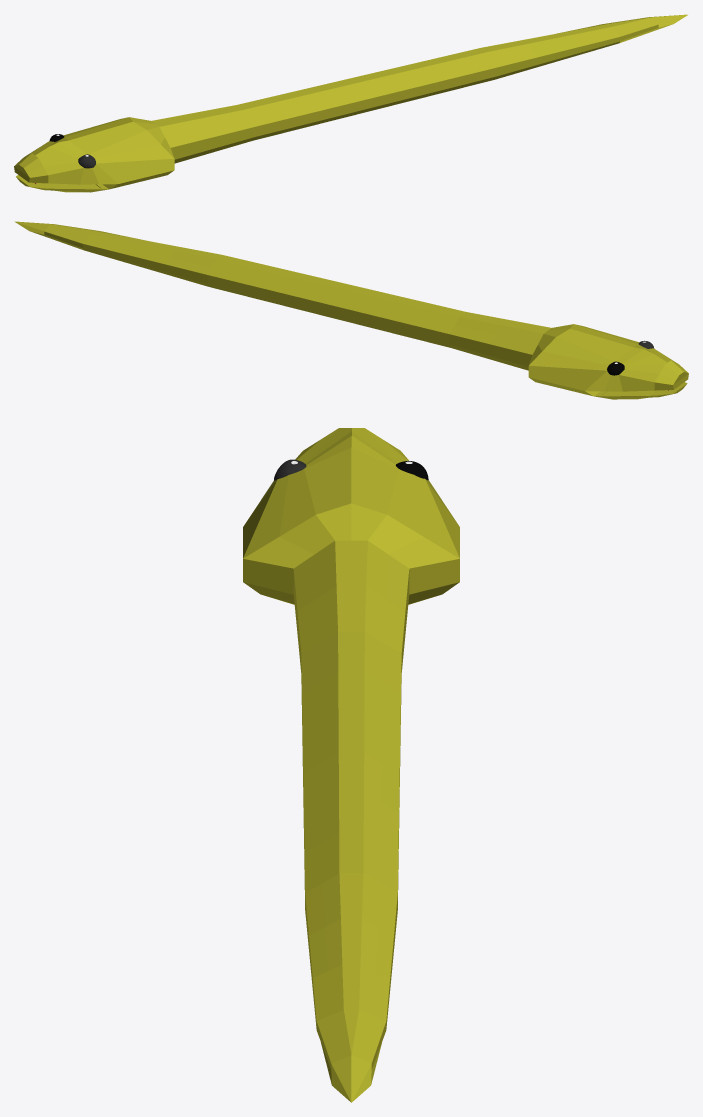
Rendered from serpiente con color.fbx.
3 renders of one model, top to bottom at view 1: azimuth 30°, elevation 25°; view 2: azimuth 150°, elevation 25°; view 3: azimuth 270°, elevation 25°, orthographic. The views are drawn at different scales.
Visible parts, largest first — view 1: Cube; view 2: Cube; view 3: Cube.
Boxes of the visible parts, x1=… form: Cube: x1=14, y1=14, x2=687, y2=192; Cube: x1=14, y1=221, x2=688, y2=399; Cube: x1=243, y1=428, x2=459, y2=1102.
Size of the model in its own units: 3580 by 279 by 504.
